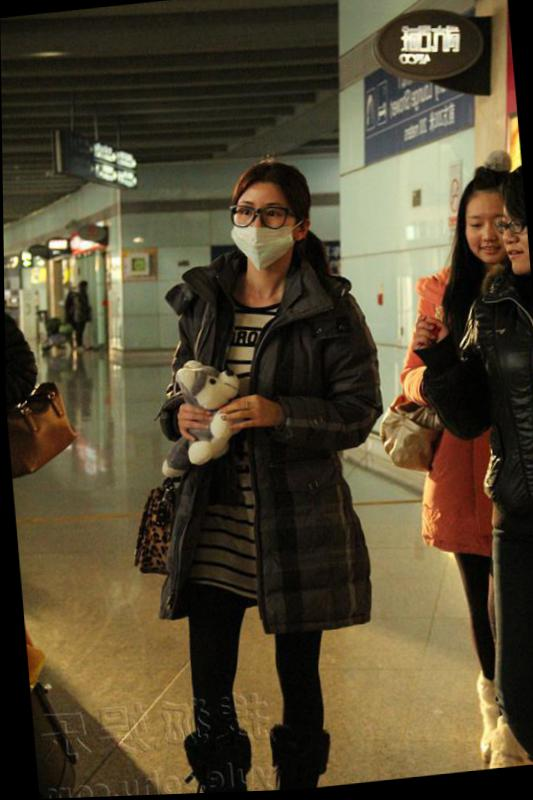NONE: (465, 213, 509, 268), (496, 216, 529, 284)
WRONG: (226, 193, 303, 271)
